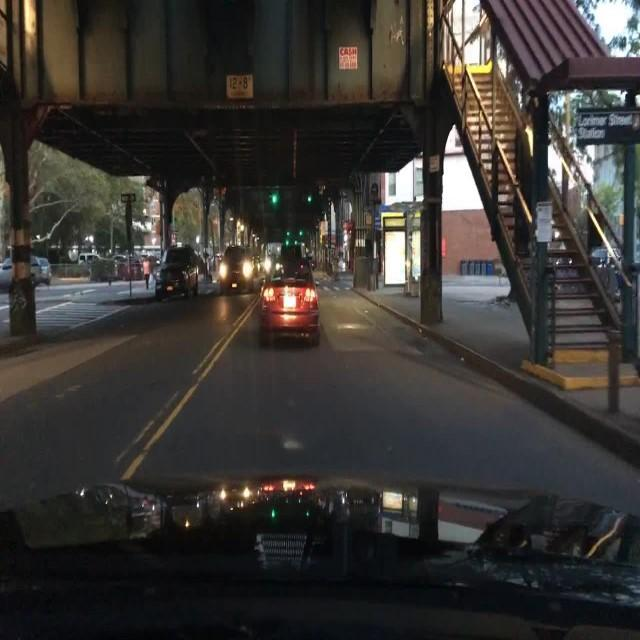normal: (256, 273, 321, 346), (153, 247, 205, 300), (0, 257, 51, 291)
